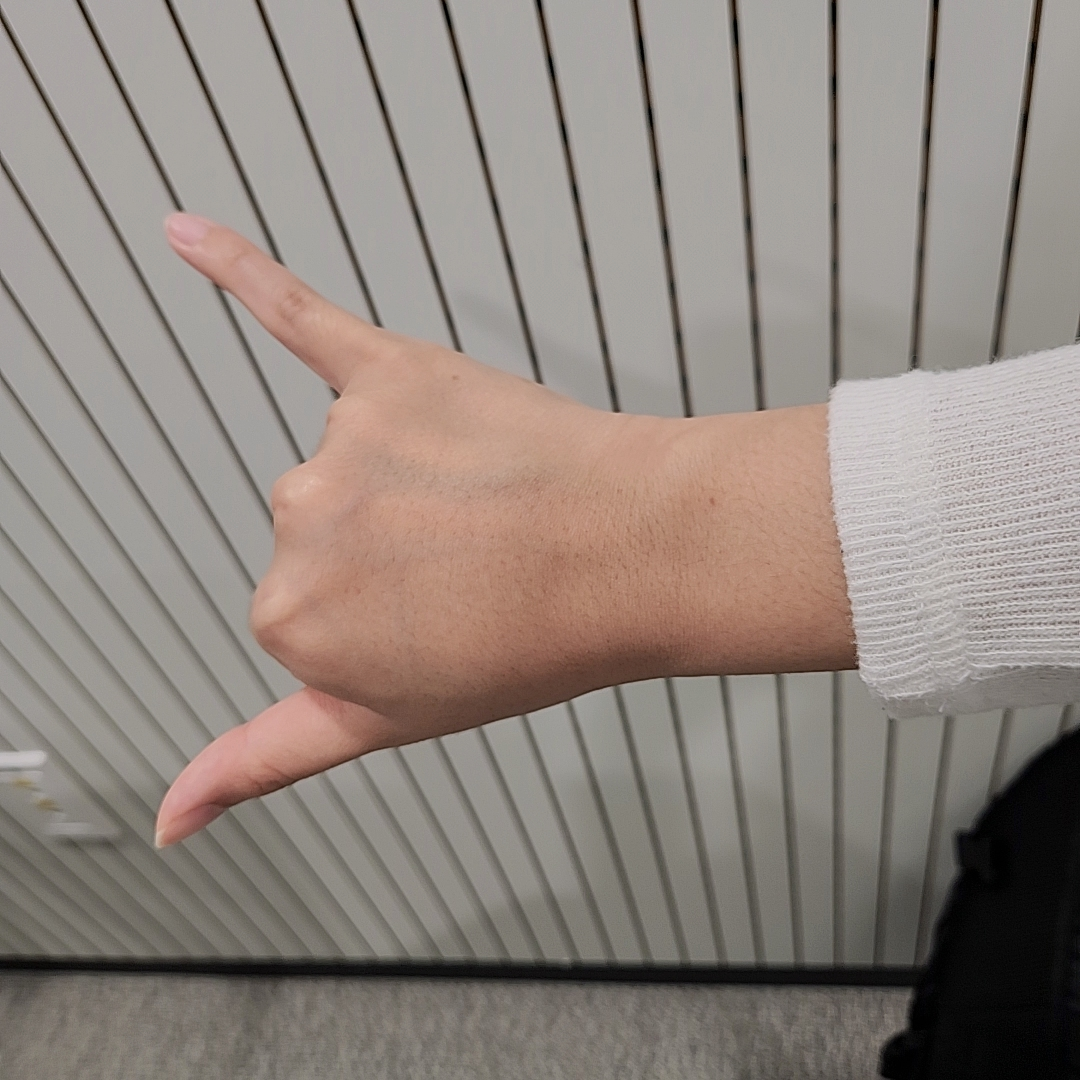call: (152, 211, 635, 849)
